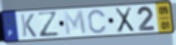2: (137, 6, 157, 33)
C: (87, 9, 108, 35)
K: (19, 13, 38, 38)
M: (62, 9, 88, 37)
X: (113, 6, 135, 34)
Z: (36, 11, 61, 39)
